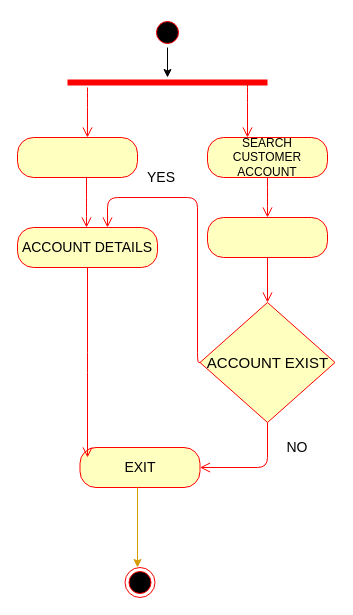
The diagram is 353 pixels wide and 615 high, and some of its shapes have lost their labels. Here are the shapes that lost their labels. From the top down, the box of each, then its label:
(16, 136, 138, 178): ADD ACCOUNT
(206, 216, 328, 258): ENTER NAME
